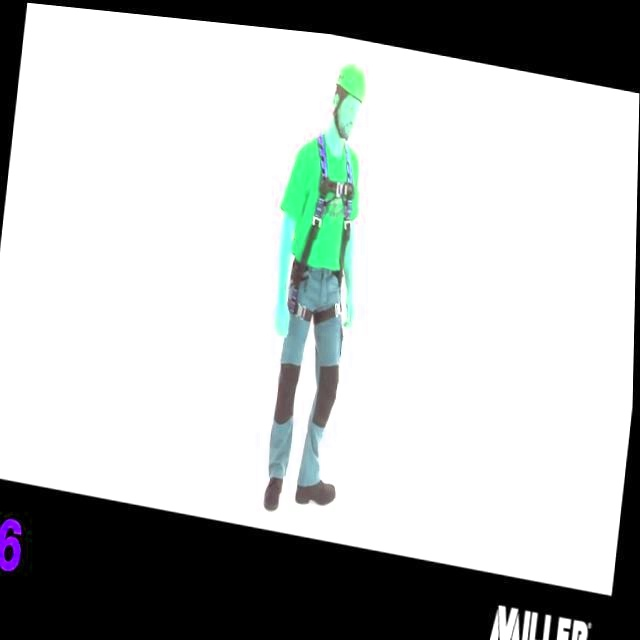safety belt: (262, 149, 376, 326)
